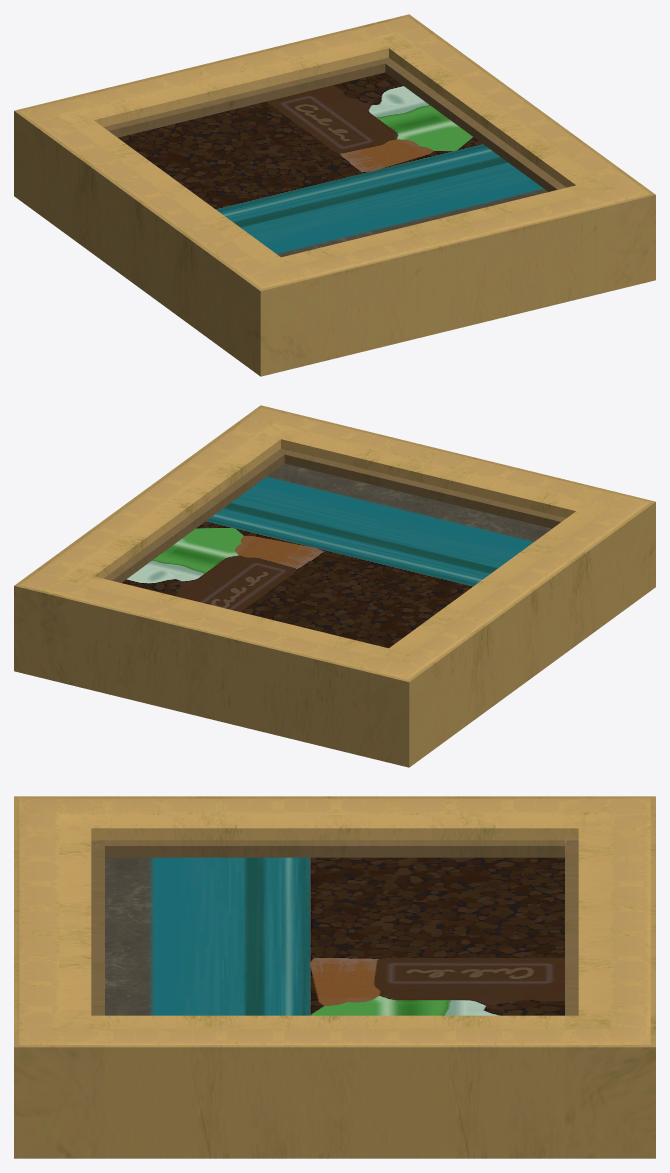
File: art21.fbx
The picture shows the model from 3 angles, top to bottom: view 1: azimuth 30°, elevation 25°; view 2: azimuth 150°, elevation 25°; view 3: azimuth 270°, elevation 25°; orthographic projection. The views are drawn at different scales.
Visible parts, largest first — view 1: FrameGold1_low1__mFrameGold1.002, Milkmaid__mBody; view 2: FrameGold1_low1__mFrameGold1.002, Milkmaid__mBody; view 3: FrameGold1_low1__mFrameGold1.002, Milkmaid__mBody.
Part boxes in pixels (x1,y1,x2,y2): FrameGold1_low1__mFrameGold1.002: [14, 14, 655, 376]; Milkmaid__mBody: [118, 72, 547, 257]; FrameGold1_low1__mFrameGold1.002: [14, 405, 655, 767]; Milkmaid__mBody: [122, 463, 551, 648]; FrameGold1_low1__mFrameGold1.002: [14, 796, 655, 1158]; Milkmaid__mBody: [105, 857, 564, 1015].
Size of the model in its own units: 286 by 59.73 by 309.
